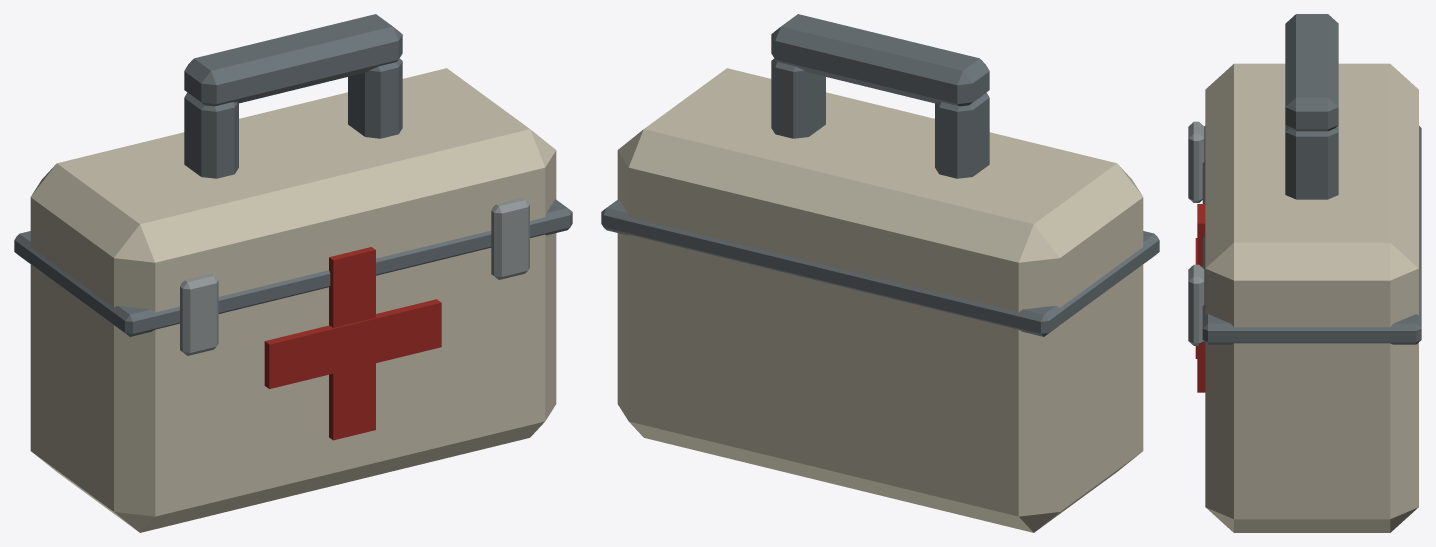
File: loot_medkit.glb
3 renders of one model, left to right at view 1: azimuth 30°, elevation 25°; view 2: azimuth 150°, elevation 25°; view 3: azimuth 270°, elevation 25°, orthographic. The views are drawn at different scales.
Parts seen in each view (by area): view 1: loot_medkit; view 2: loot_medkit; view 3: loot_medkit.
Part boxes in pixels (left/top/right/bottom): loot_medkit: left=14, top=14, right=572, bottom=532; loot_medkit: left=601, top=14, right=1159, bottom=532; loot_medkit: left=1188, top=14, right=1421, bottom=532.
Bounding box in the file's own units: 0.273 × 0.2405 × 0.131.
